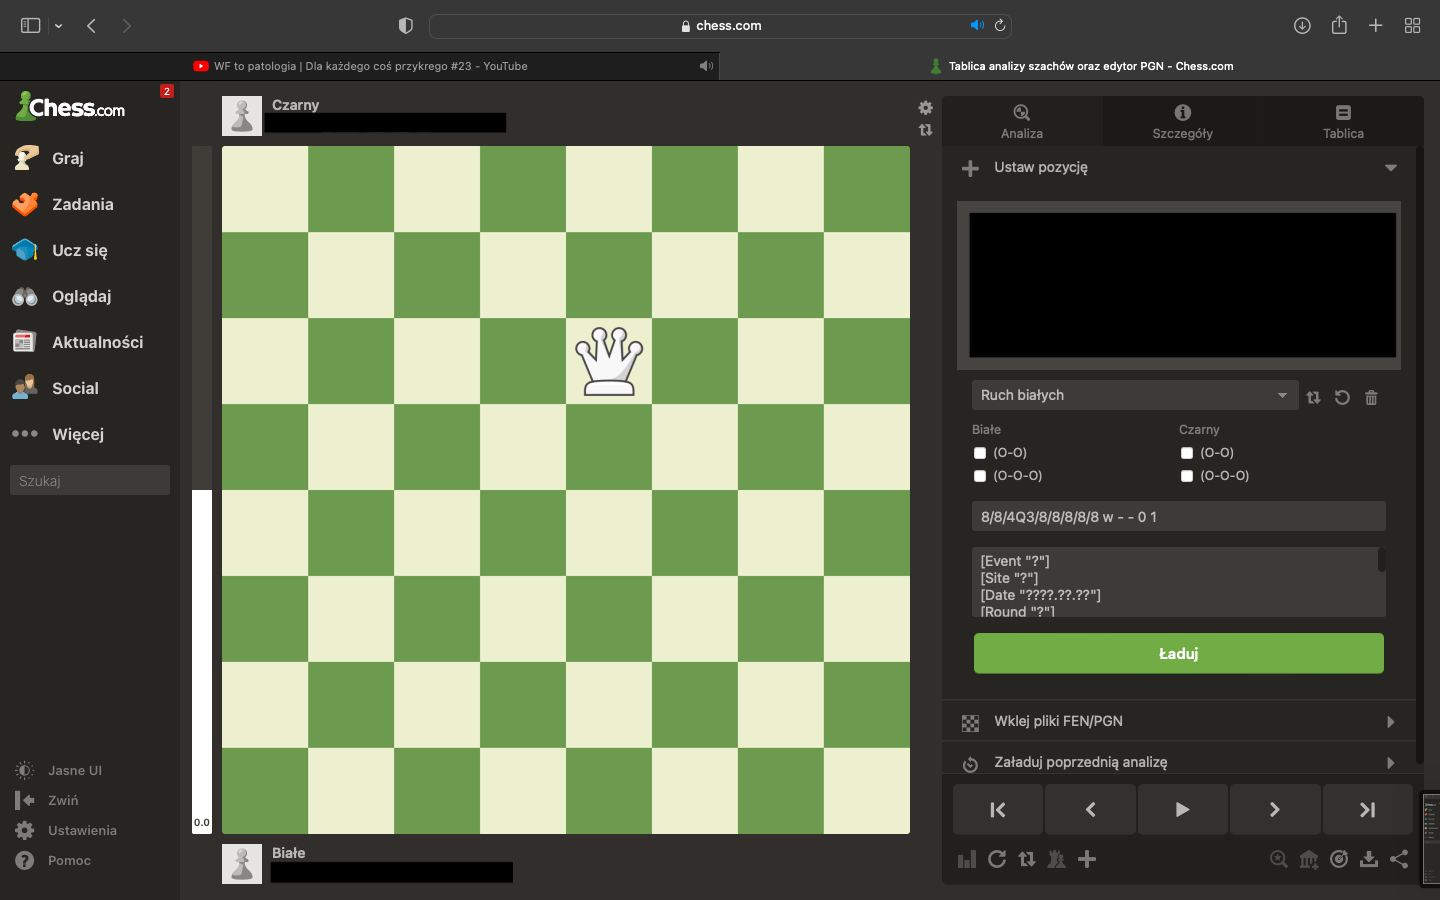white_queen: (575, 326, 644, 397)
